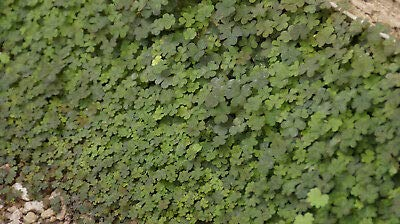oxalis: (53, 28, 387, 221)
